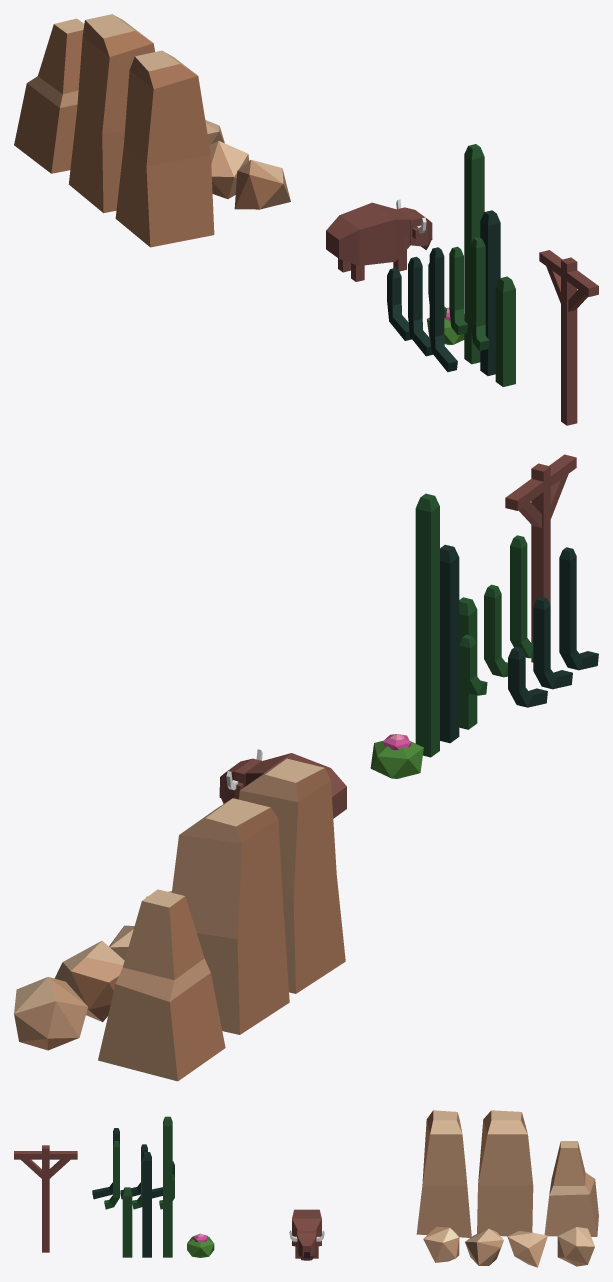
Rendered from ProjIVExteriorAssets.fbx.
3 renders of one model, top to bottom at view 1: azimuth 30°, elevation 25°; view 2: azimuth 150°, elevation 25°; view 3: azimuth 270°, elevation 25°, orthographic. The views are drawn at different scales.
Visible parts, largest first — view 1: Cube, Cube.001, Cube.002, BuffaloBody, Cube.003, Cube.014, Cube.007, Icosphere, Cube.006, Cube.011, Cube.010, Icosphere.001 (+5 smaller); view 2: Cube.001, Cube.002, Cube, Cube.014, Icosphere.003, Cube.007, Cube.003, Icosphere.002, Cube.011, Cube.010, Cube.013, Cube.008 (+5 smaller); view 3: Cube.001, Cube, Cube.002, Cube.014, Cube.003, Icosphere.003, Cube.007, Icosphere.002, Icosphere.001, Icosphere, Cube.006, BuffaloBody (+4 smaller).
Boxes of the visible parts, x1=… form: Cube: x1=115, y1=50, x2=214, y2=247; Cube.001: x1=68, y1=14, x2=154, y2=213; Cube.002: x1=14, y1=18, x2=84, y2=173; BuffaloBody: x1=326, y1=202, x2=411, y2=265; Cube.003: x1=539, y1=250, x2=598, y2=425; Cube.014: x1=464, y1=144, x2=484, y2=364; Cube.007: x1=480, y1=210, x2=500, y2=375; Icosphere: x1=234, y1=159, x2=290, y2=209; Cube.006: x1=495, y1=276, x2=515, y2=386; Cube.011: x1=429, y1=247, x2=457, y2=372; Cube.010: x1=471, y1=237, x2=489, y2=350; Icosphere.001: x1=209, y1=140, x2=249, y2=198; Cube.001: x1=172, y1=798, x2=289, y2=1034; Cube.002: x1=98, y1=889, x2=225, y2=1081; Cube: x1=239, y1=758, x2=345, y2=993; Cube.014: x1=415, y1=493, x2=439, y2=757; Icosphere.003: x1=14, y1=977, x2=87, y2=1050; Cube.007: x1=440, y1=544, x2=459, y2=743; Cube.003: x1=505, y1=454, x2=576, y2=662; Icosphere.002: x1=54, y1=941, x2=124, y2=1021; Cube.011: x1=559, y1=547, x2=598, y2=670; Cube.010: x1=510, y1=535, x2=533, y2=658; Cube.013: x1=533, y1=596, x2=572, y2=689; Cube.008: x1=484, y1=584, x2=507, y2=677; Cube.001: x1=477, y1=1110, x2=533, y2=1236; Cube: x1=416, y1=1110, x2=471, y2=1237; Cube.002: x1=544, y1=1141, x2=598, y2=1236; Cube.014: x1=163, y1=1116, x2=172, y2=1257; Cube.003: x1=14, y1=1145, x2=77, y2=1252; Icosphere.003: x1=557, y1=1227, x2=594, y2=1266; Cube.007: x1=142, y1=1152, x2=151, y2=1257; Icosphere.002: x1=507, y1=1231, x2=547, y2=1267; Icosphere.001: x1=465, y1=1228, x2=503, y2=1265; Icosphere: x1=423, y1=1226, x2=459, y2=1262; Cube.006: x1=122, y1=1187, x2=132, y2=1257; BuffaloBody: x1=292, y1=1209, x2=321, y2=1246.
Bounding box in the file's own units: 1462 × 6009 × 1694.
1 material, 1 textured.
